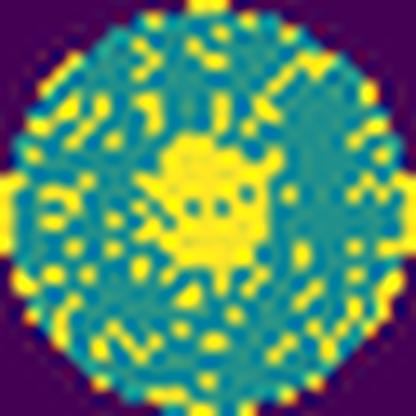Center: (136, 131, 288, 302)
